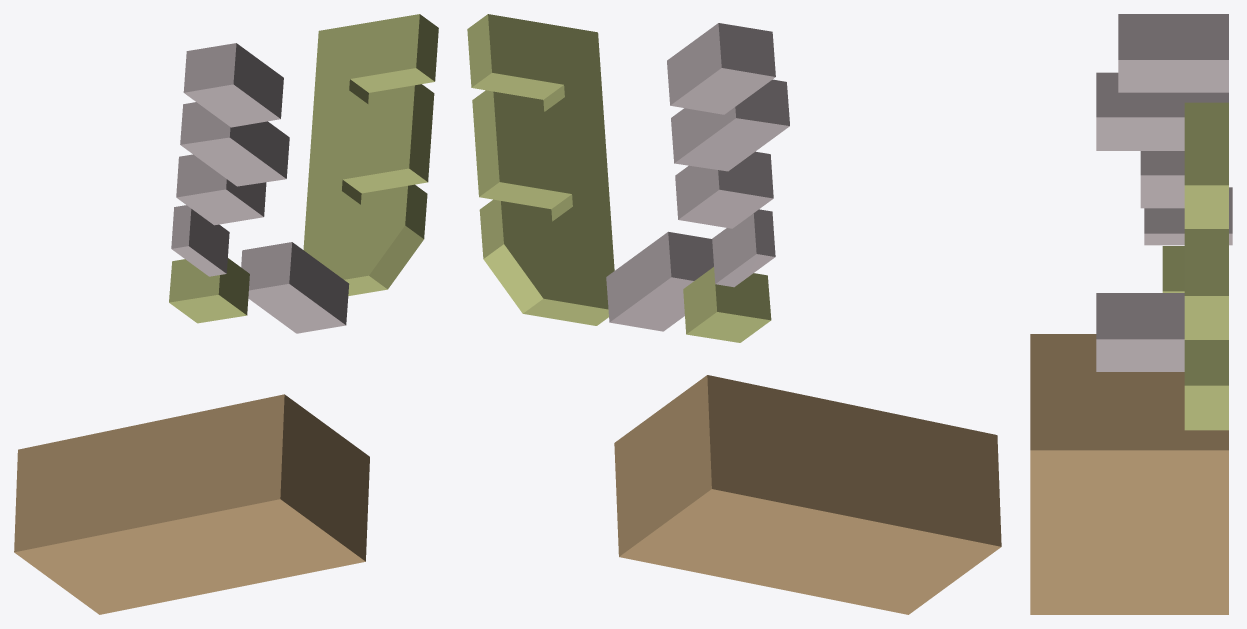
3 renders of one model, left to right at view 1: azimuth 30°, elevation 25°; view 2: azimuth 150°, elevation 25°; view 3: azimuth 270°, elevation 25°, orthographic. The views are drawn at different scales.
Parts seen in each view (by area): view 1: 0_1_3_2_2_1_0_2; view 2: 0_1_3_2_2_1_0_2; view 3: 0_1_3_2_2_1_0_2.
Part boxes in pixels (box(x1,y1,x2,y2)): 0_1_3_2_2_1_0_2: box(14, 14, 438, 614); 0_1_3_2_2_1_0_2: box(467, 14, 1001, 614); 0_1_3_2_2_1_0_2: box(1030, 14, 1232, 614).
Bounding box in the file's own units: 73.98 × 82.06 × 27.49.
